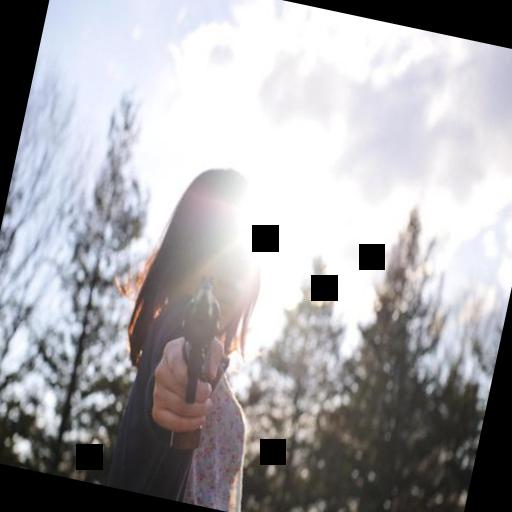Handgun: (150, 268, 242, 458)
